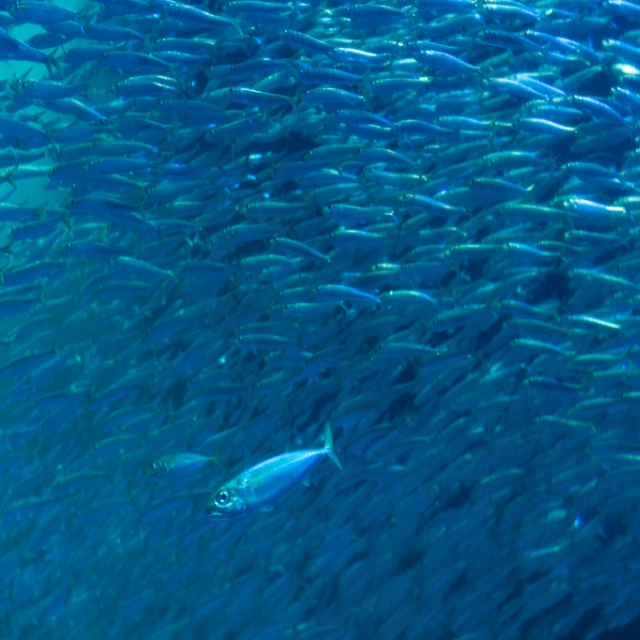Fish: (0, 0, 640, 640), (205, 421, 345, 522)
